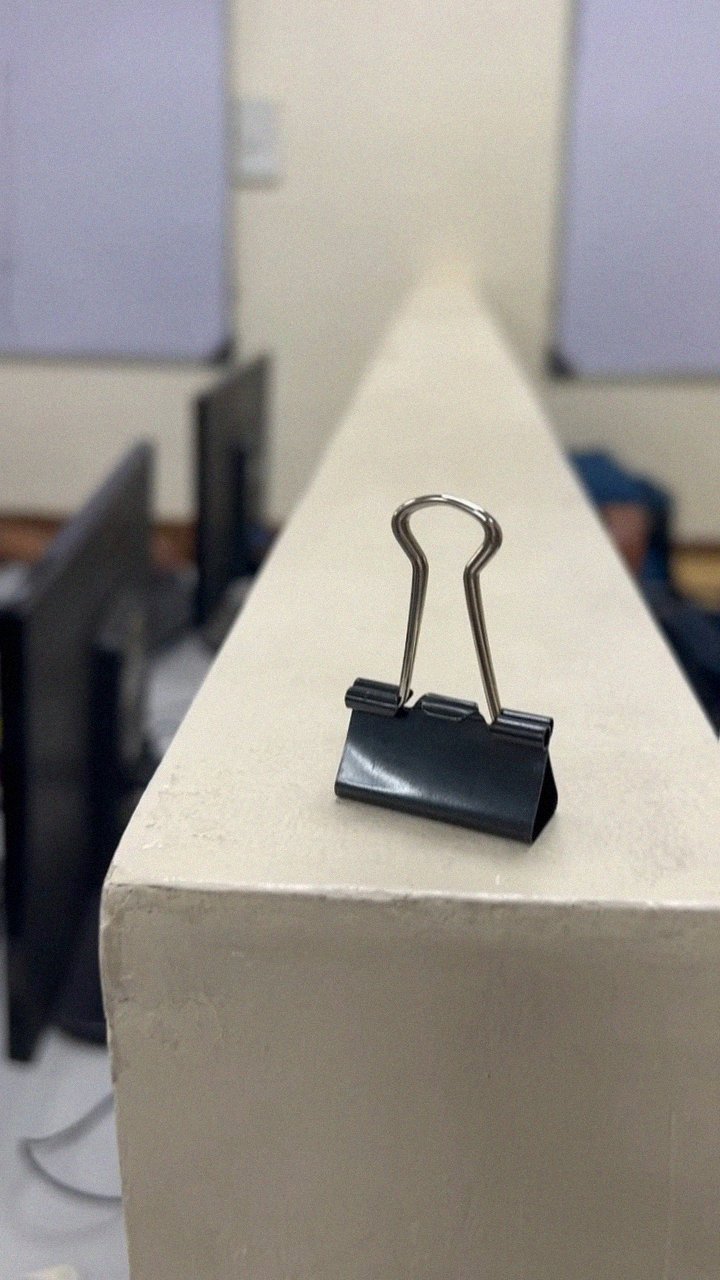kep_giay: (330, 488, 568, 841)
